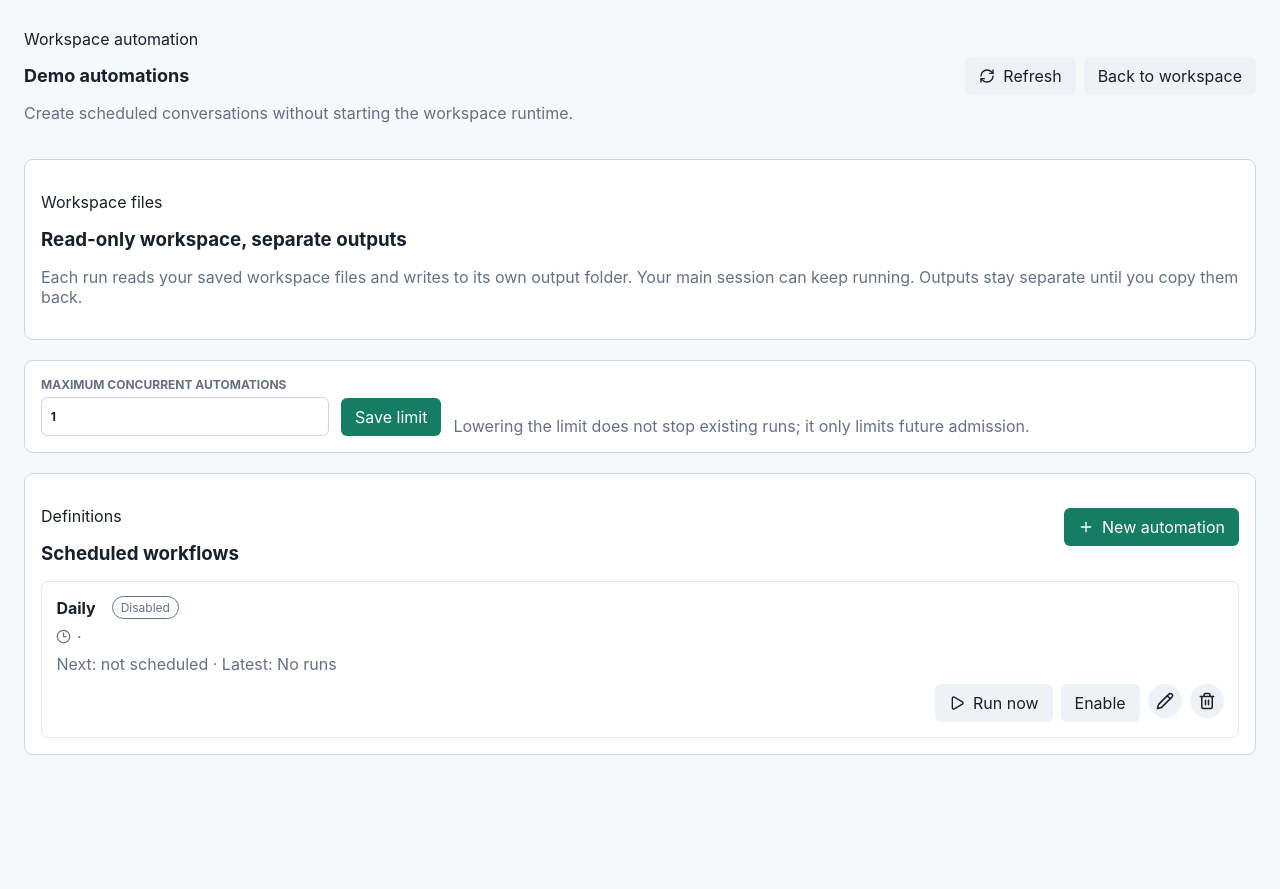
Test case: AutomationsPanel › supports concurrent main sessions with existing GCS and no storage setup action
Expected: the text "main session can keep running" is shown, [41,267,1238,307]
Click the button "Run now" at (994, 703), box [935,684,1053,722]
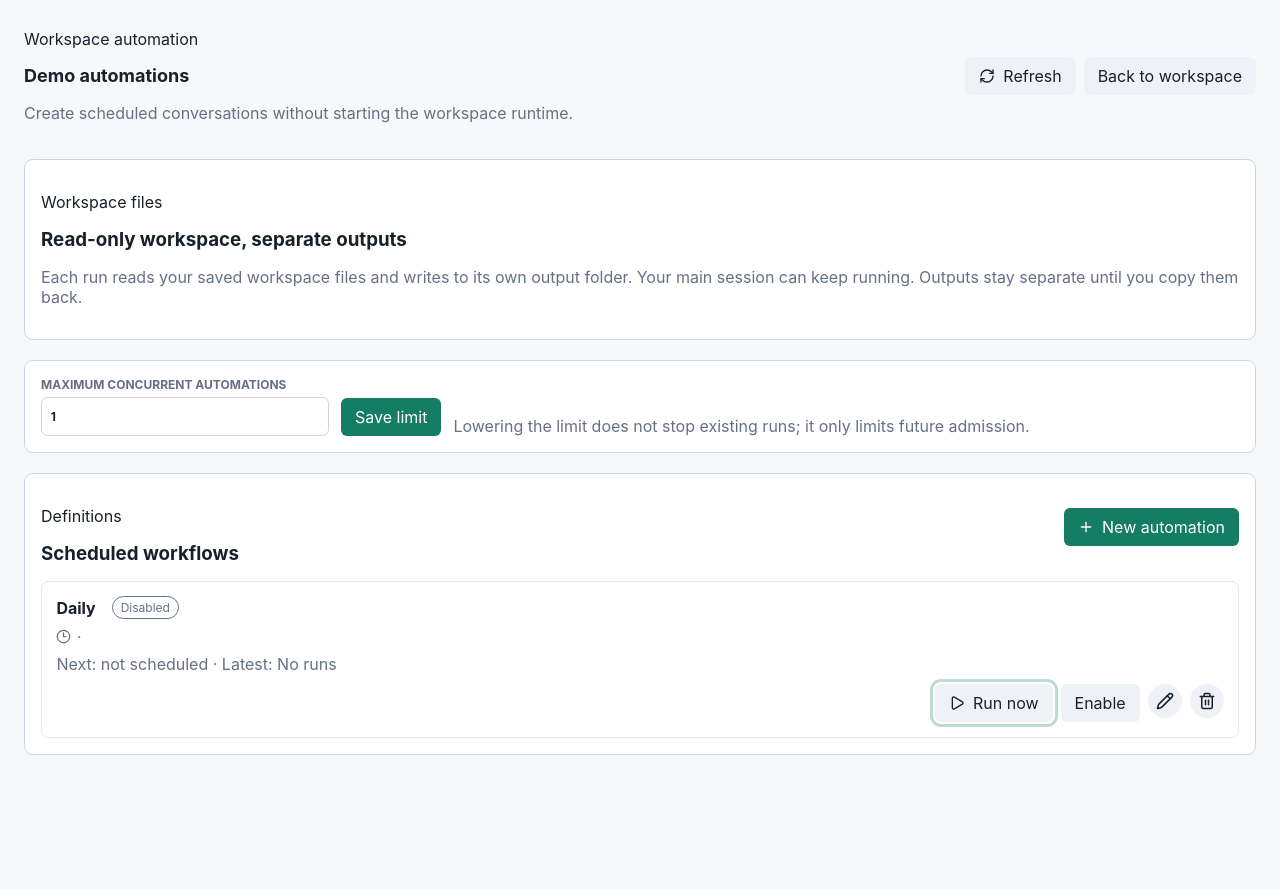
Click the button "New automation" at (1152, 527), box [1064,508,1239,546]
(page scrolled)
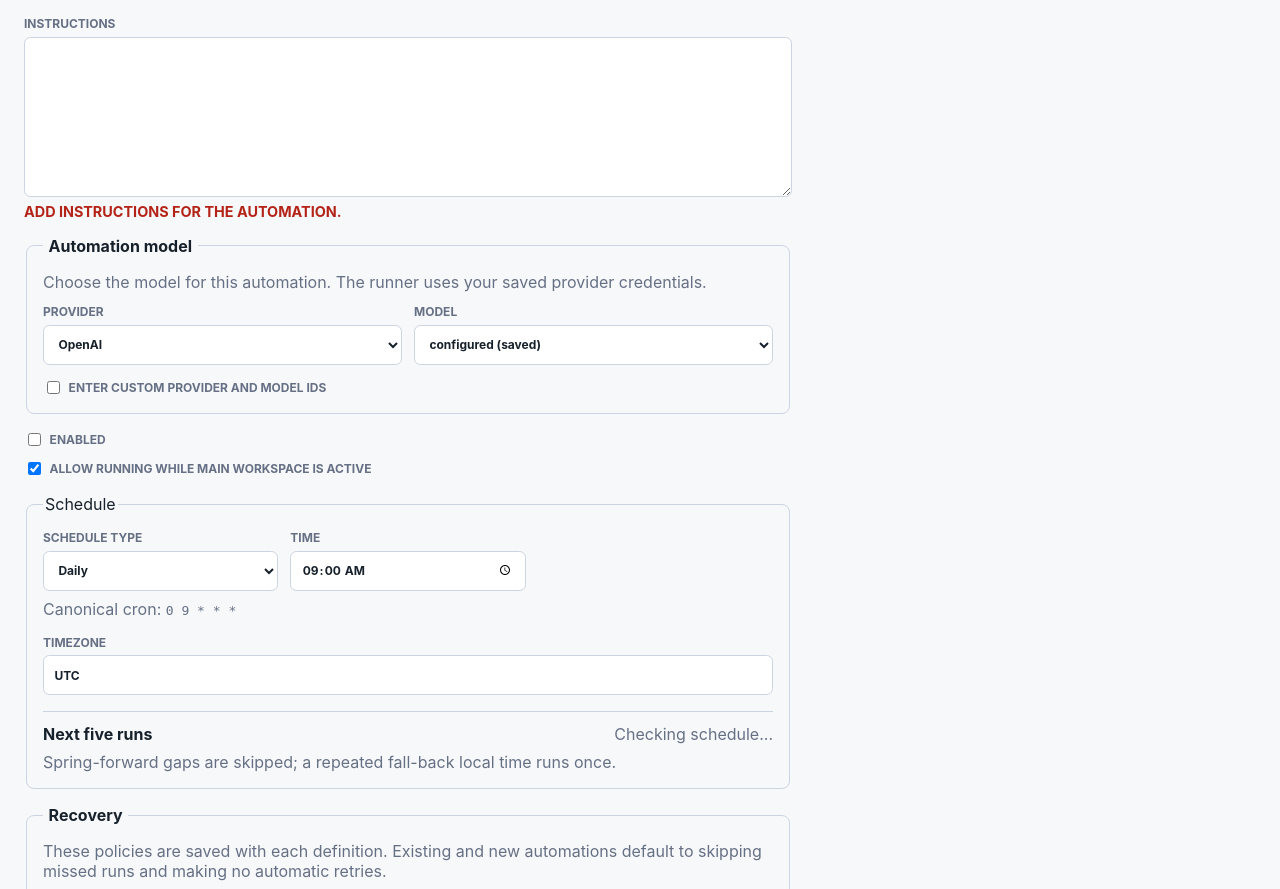
Result: the checkbox labelled "Enabled" is enabled at [28,433,41,446]
